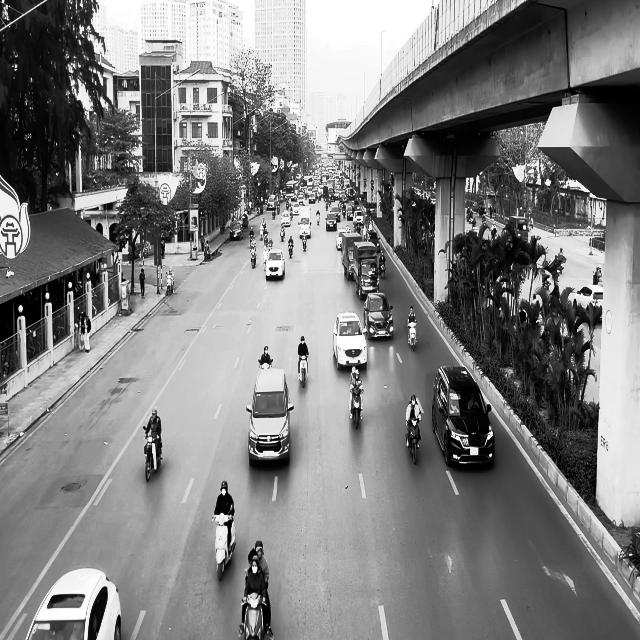car: (26, 568, 121, 639), (431, 364, 495, 468), (246, 366, 294, 466), (332, 311, 367, 370), (363, 292, 394, 340), (569, 284, 603, 320), (265, 248, 285, 280), (229, 221, 243, 240)
motorbike: (212, 508, 236, 581), (242, 591, 266, 639), (143, 426, 163, 481), (406, 410, 424, 464), (349, 385, 363, 429), (298, 353, 308, 388), (407, 319, 417, 351)
